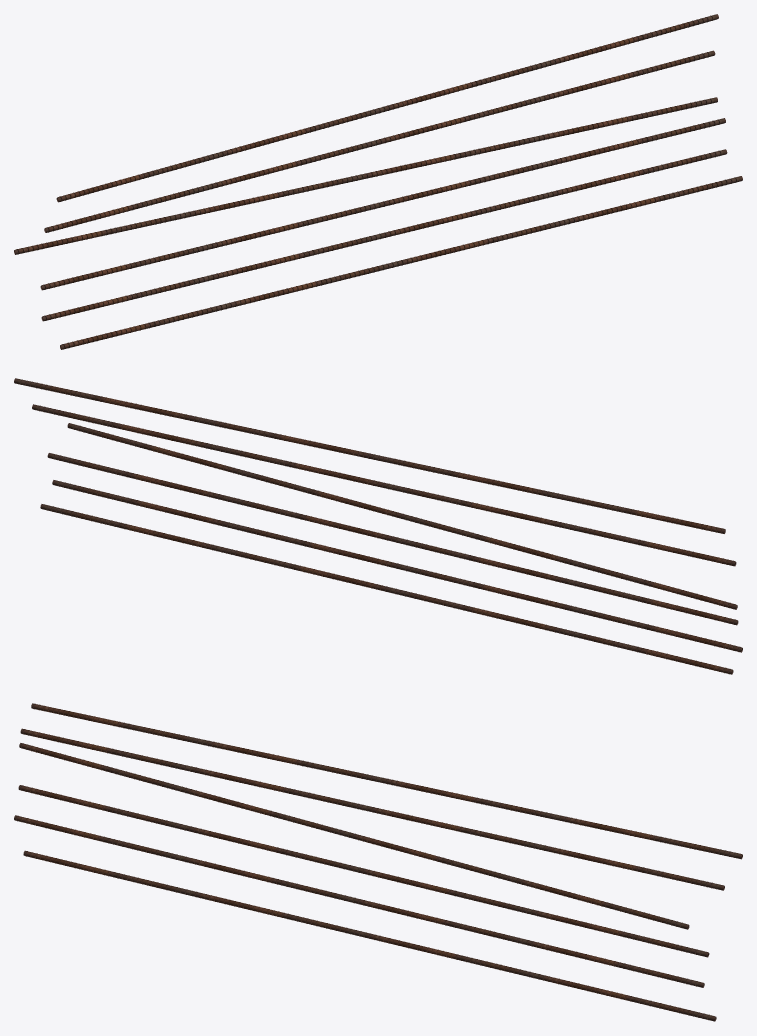
File: EST-ACO-001_anim.glb
3 renders of one model, top to bottom at view 1: azimuth 30°, elevation 25°; view 2: azimuth 150°, elevation 25°; view 3: azimuth 330°, elevation 25°, orthographic.
Parts seen in each view (by area): view 1: EST-ACO-001_anim3, EST-ACO-001_anim1, EST-ACO-001_anim2, EST-ACO-001_anim0, EST-ACO-001_anim4, EST-ACO-001_anim5; view 2: EST-ACO-001_anim5, EST-ACO-001_anim4, EST-ACO-001_anim0, EST-ACO-001_anim1, EST-ACO-001_anim2, EST-ACO-001_anim3; view 3: EST-ACO-001_anim5, EST-ACO-001_anim4, EST-ACO-001_anim0, EST-ACO-001_anim2, EST-ACO-001_anim1, EST-ACO-001_anim3.
Part boxes in pixels (x1,y1,x2,y2): EST-ACO-001_anim3: (14,97,717,254); EST-ACO-001_anim1: (41,149,727,321); EST-ACO-001_anim2: (40,118,725,290); EST-ACO-001_anim0: (60,176,742,349); EST-ACO-001_anim4: (44,50,715,232); EST-ACO-001_anim5: (56,14,718,202); EST-ACO-001_anim5: (14,378,725,533); EST-ACO-001_anim4: (32,404,736,566); EST-ACO-001_anim0: (40,504,733,674); EST-ACO-001_anim1: (52,480,742,652); EST-ACO-001_anim2: (47,453,738,625); EST-ACO-001_anim3: (67,423,737,609); EST-ACO-001_anim5: (31,703,742,859); EST-ACO-001_anim4: (20,728,724,890); EST-ACO-001_anim0: (23,850,716,1021); EST-ACO-001_anim2: (18,785,709,957); EST-ACO-001_anim1: (14,815,704,987); EST-ACO-001_anim3: (19,743,689,929).
Bounding box in the file's own units: 1.04 × 0.2071 × 0.078.
1 material, 1 textured.
